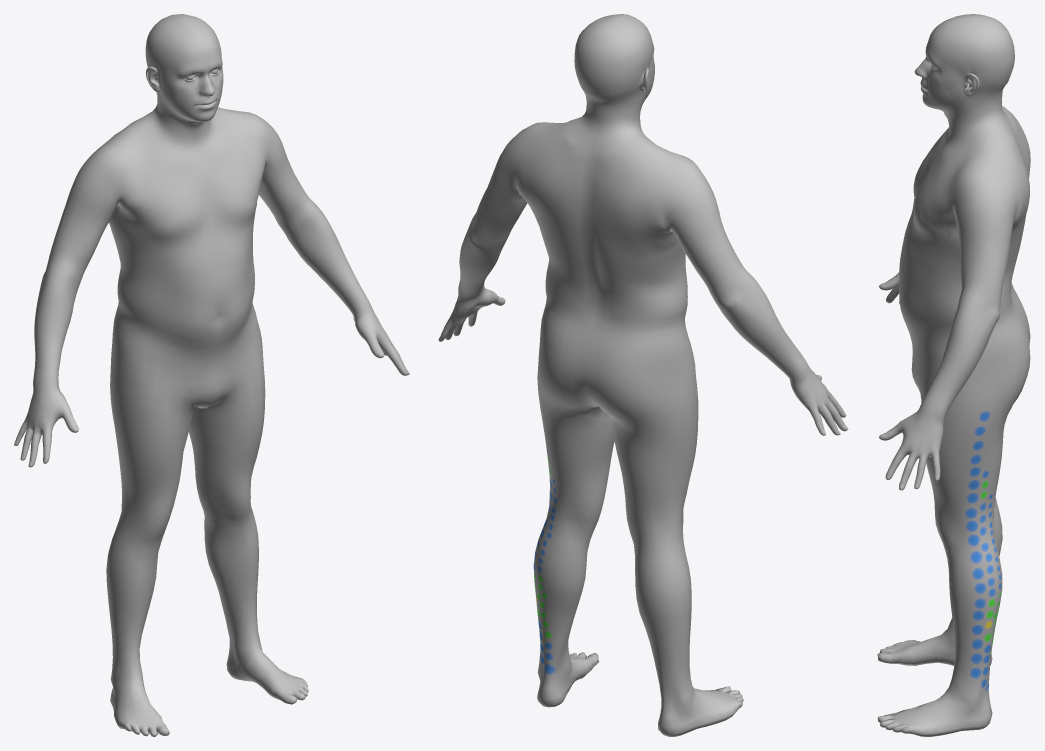
The model's file is 1135025-crossleg-all.gltf.
3 renders of one model, left to right at view 1: azimuth 30°, elevation 25°; view 2: azimuth 150°, elevation 25°; view 3: azimuth 270°, elevation 25°, orthographic. The views are drawn at different scales.
Visible parts, largest first — view 1: Male 68in 180lbs-A-pose; view 2: Male 68in 180lbs-A-pose; view 3: Male 68in 180lbs-A-pose.
Boxes of the visible parts, left/top/right/bottom form: Male 68in 180lbs-A-pose: left=14, top=14, right=409, bottom=736; Male 68in 180lbs-A-pose: left=438, top=14, right=848, bottom=736; Male 68in 180lbs-A-pose: left=877, top=14, right=1030, bottom=736.
Size of the model in its own units: 3.06 by 5.17 by 1.05.
1 material, 1 textured.
